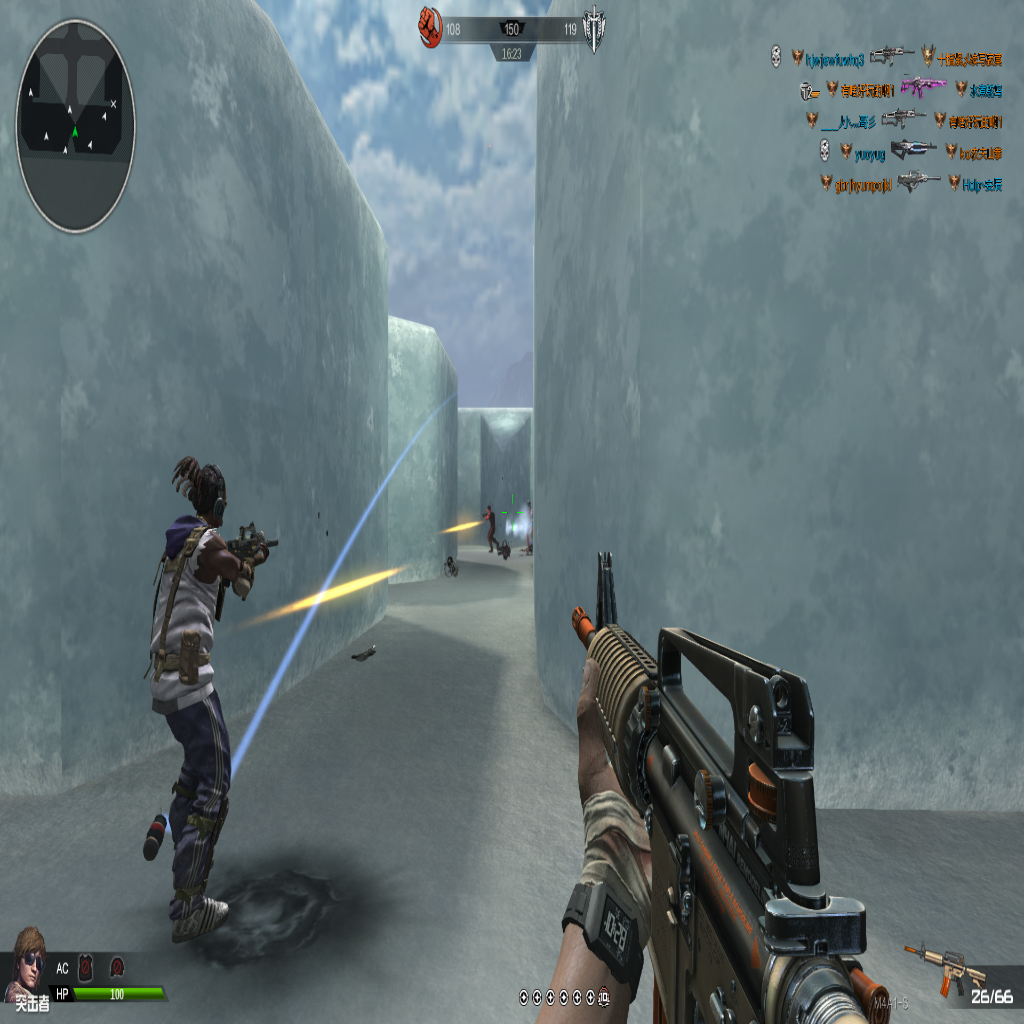ct: (484, 504, 498, 553)
